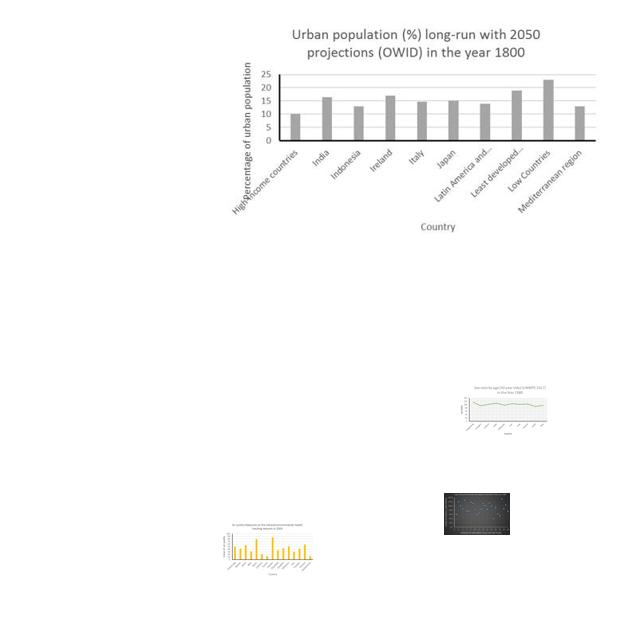Graph: (229, 23, 601, 239), (220, 522, 314, 577), (458, 384, 548, 436), (444, 493, 510, 535)
